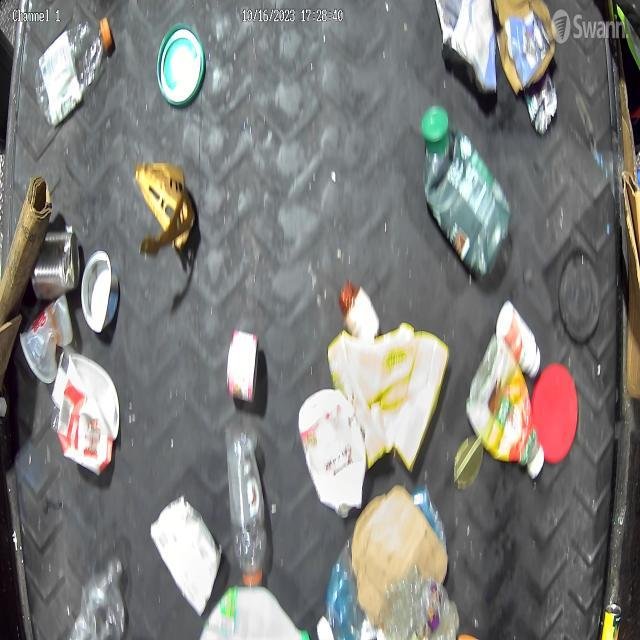can: (28, 224, 88, 306), (73, 238, 119, 336), (220, 321, 266, 406)
milk_jug: (294, 392, 369, 520)
non_white_jug: (328, 286, 449, 473), (418, 107, 508, 278), (466, 335, 544, 485)
plastic_bottle: (37, 12, 112, 124), (225, 420, 269, 594)
